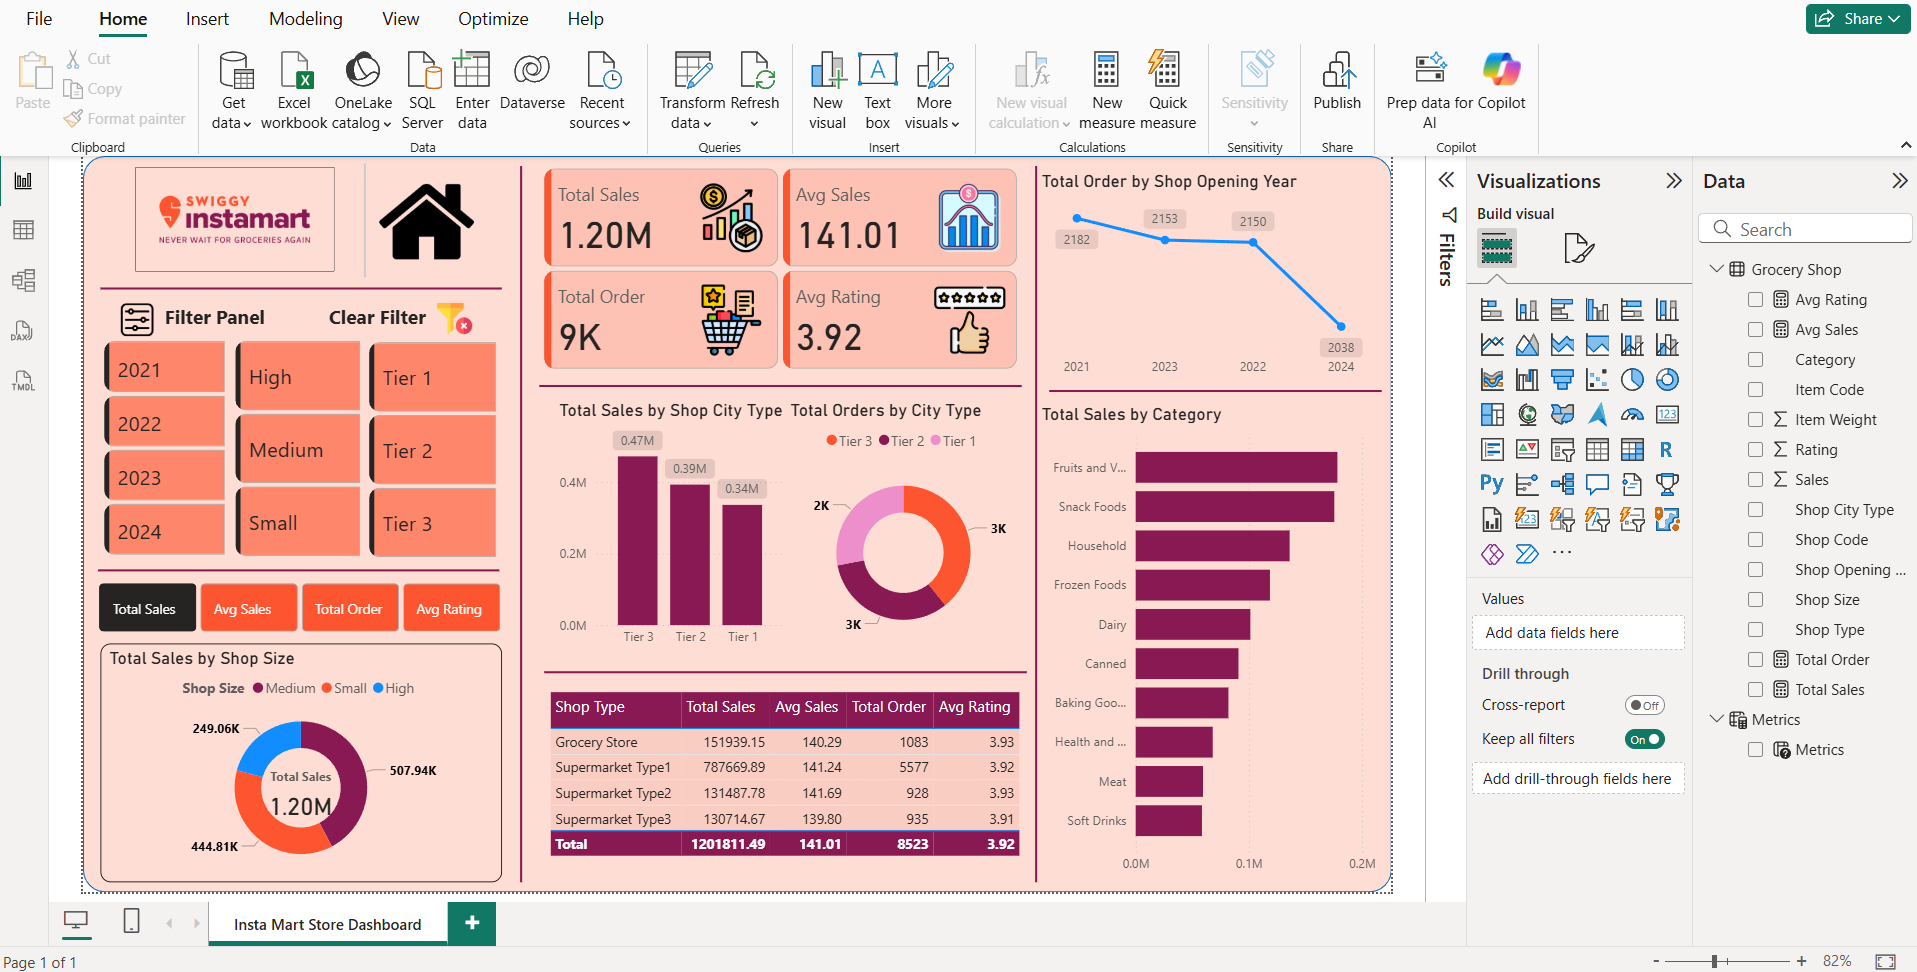

The page's visual inventory and layout, read from the dashboard file:
{"tool":"powerbi","page":{"name":"Insta Mart Store Dashboard","canvas":[1280,720],"ordinal":0},"visuals":[{"type":"shape","box":[0,0,1280.3,720.2],"z":0},{"type":"image","box":[8.6,6.1,280,112.5],"z":1000},{"type":"cardVisual","fields":{"Data":["Grocery Shop.Total Sales","Grocery Shop.Avg Sales","Grocery Shop.Total Order","Grocery Shop.Avg Rating"]},"box":[446.3,7.3,472,206.7],"z":2000},{"type":"advancedSlicerVisual","fields":{"Values":["Metrics.Metrics"]},"box":[11,413.3,404.8,57.5],"z":3000},{"type":"donutChart","fields":{"Y":["Grocery Shop.Total Sales"],"Category":["Grocery Shop.Shop Size"]},"box":[17.1,476.9,392.5,233.6],"z":4000},{"type":"cardVisual","fields":{"Data":["Grocery Shop.Total Sales"]},"box":[159,578.4,108.8,91.7],"z":5000},{"type":"clusteredColumnChart","fields":{"Category":["Grocery Shop.Shop City Type"],"Y":["Grocery Shop.Total Sales"]},"box":[461,238.5,231.1,250.7],"z":6000},{"type":"donutChart","title":"Total Orders by City Type","fields":{"Category":["Grocery Shop.Shop City Type"],"Y":["Grocery Shop.Total Order"]},"box":[687.2,238.5,231.1,250.7],"z":7000},{"type":"tableEx","fields":{"Values":["Grocery Shop.Shop Type","Grocery Shop.Total Sales","Grocery Shop.Avg Sales","Grocery Shop.Total Order","Grocery Shop.Avg Rating"]},"box":[451.2,519.7,472,200.5],"z":8000},{"type":"lineChart","fields":{"Y":["Grocery Shop.Total Order"],"Category":["Grocery Shop.Shop Opening Year.Variation.Date Hierarchy.Year"]},"box":[933,14.7,337.5,210.3],"z":9000},{"type":"barChart","fields":{"Category":["Grocery Shop.Category"],"Y":["Grocery Shop.Total Sales"]},"box":[933,242.1,337.5,468.3],"z":10000},{"type":"advancedSlicerVisual","fields":{"Values":["Grocery Shop.Shop Opening Year"]},"box":[15.9,175.8,128.4,221.3],"z":11000},{"type":"advancedSlicerVisual","fields":{"Values":["Grocery Shop.Shop City Type"]},"box":[275.1,177.1,134.5,221.3],"z":12000},{"type":"advancedSlicerVisual","fields":{"Values":["Grocery Shop.Shop Size"]},"box":[144.3,175.8,132.1,221.3],"z":13000},{"type":"textbox","box":[53.8,138.9,150.4,41.6],"z":14000},{"type":"textbox","box":[212.8,138.9,150.4,41.6],"z":15000},{"type":"image","box":[30.6,138.9,44,41.6],"z":16000},{"type":"image","box":[339.9,136.5,47.7,44],"z":17000},{"type":"image","box":[284.9,9.8,102.7,108.8],"z":18000},{"type":"shape","box":[17.1,119.8,392.5,19.6],"z":19000},{"type":"shape","box":[14.7,397.4,392.5,15.9],"z":20000},{"type":"shape","box":[396.2,9.8,64.8,700.7],"z":21000},{"type":"shape","box":[451.2,489.1,472,31.8],"z":22000},{"type":"shape","box":[446.3,209.1,472,31.8],"z":23000},{"type":"shape","box":[900,9.8,64.8,700.7],"z":24000},{"type":"shape","box":[945.2,214,325.3,31.8],"z":25000},{"type":"shape","box":[243.3,7.3,64.8,111.3],"z":25001}]}

Visuals, with their boxes on the page's 1280x720 design canvas (x1, y1, x2, y2). These are canvas units, not pixel positions in the 1917x972 screenshot, which may show the page scaled, cropped or inside an application window:
shape: 0 0 1280 720
image: 9 6 289 119
cardVisual - Grocery Shop.Total Sales x Grocery Shop.Avg Sales: 446 7 918 214
advancedSlicerVisual - Metrics.Metrics: 11 413 416 471
donutChart - Grocery Shop.Total Sales x Grocery Shop.Shop Size: 17 477 410 710
cardVisual - Grocery Shop.Total Sales: 159 578 268 670
clusteredColumnChart - Grocery Shop.Shop City Type x Grocery Shop.Total Sales: 461 238 692 489
"Total Orders by City Type" donutChart: 687 238 918 489
tableEx - Grocery Shop.Shop Type x Grocery Shop.Total Sales: 451 520 923 720
lineChart - Grocery Shop.Total Order x Grocery Shop.Shop Opening Year.Variation.Date Hierarchy.Year: 933 15 1270 225
barChart - Grocery Shop.Category x Grocery Shop.Total Sales: 933 242 1270 710
advancedSlicerVisual - Grocery Shop.Shop Opening Year: 16 176 144 397
advancedSlicerVisual - Grocery Shop.Shop City Type: 275 177 410 398
advancedSlicerVisual - Grocery Shop.Shop Size: 144 176 276 397
textbox: 54 139 204 180
textbox: 213 139 363 180
image: 31 139 75 180
image: 340 136 388 180
image: 285 10 388 119
shape: 17 120 410 139
shape: 15 397 407 413
shape: 396 10 461 710
shape: 451 489 923 521
shape: 446 209 918 241
shape: 900 10 965 710
shape: 945 214 1270 246
shape: 243 7 308 119
